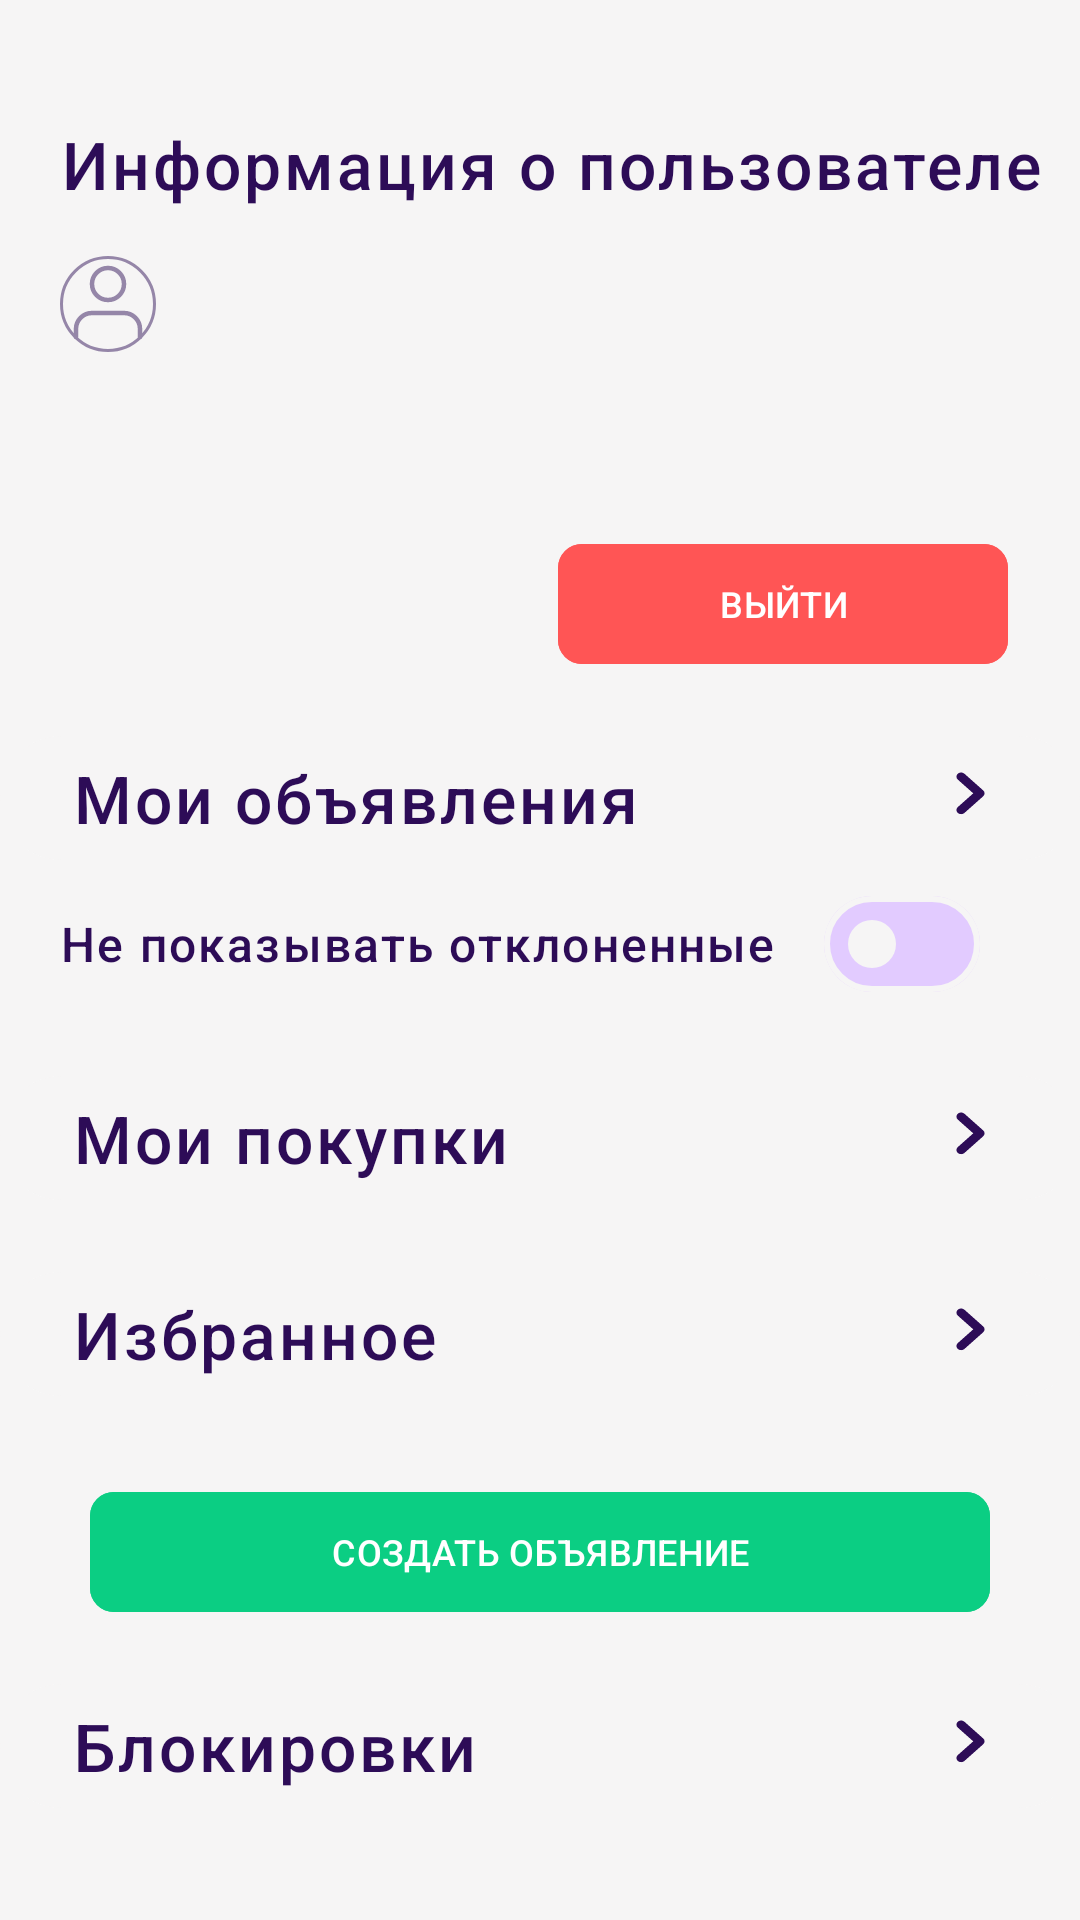

Point at icon controls on the screen. Image size 1080×1920, points as point (x, y).
seller: point (108, 304)
